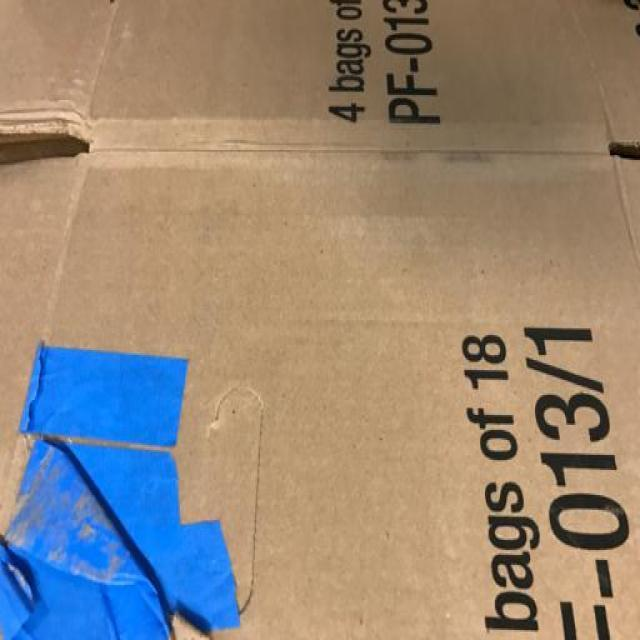Cardboard Paper: (1, 10, 640, 640)
